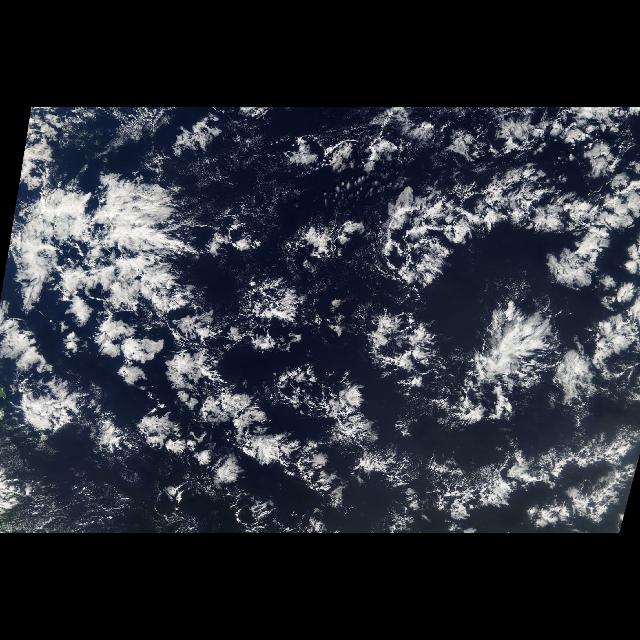Fish: (380, 162, 630, 290)
Flower: (5, 107, 640, 533)
Gravel: (200, 136, 470, 416)
